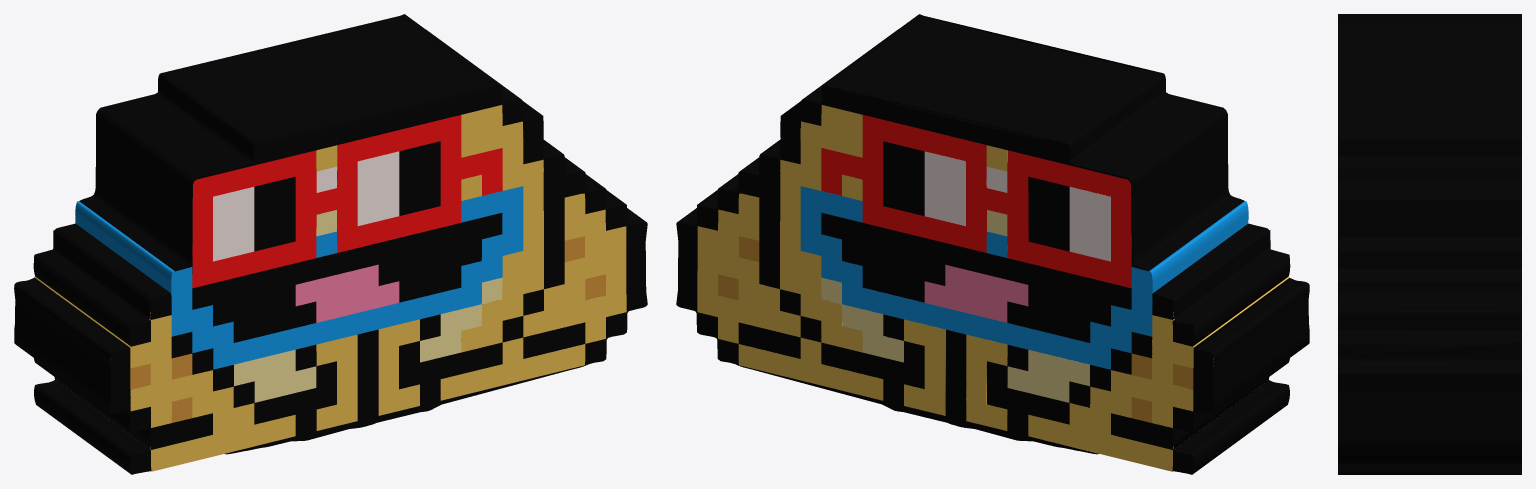
File: Toadz_2664.glb
3 views of the same model, side by side, from view 1: azimuth 30°, elevation 25°; view 2: azimuth 150°, elevation 25°; view 3: azimuth 270°, elevation 25° (orthographic). The views are drawn at different scales.
Parts seen in each view (by area): view 1: Curve; view 2: Curve; view 3: Curve.
Part boxes in pixels (x1,y1,x2,y2): Curve: (14, 14, 647, 474); Curve: (676, 14, 1309, 474); Curve: (1338, 14, 1521, 474).
Size of the model in its own units: 3.24 by 1.78 by 1.
